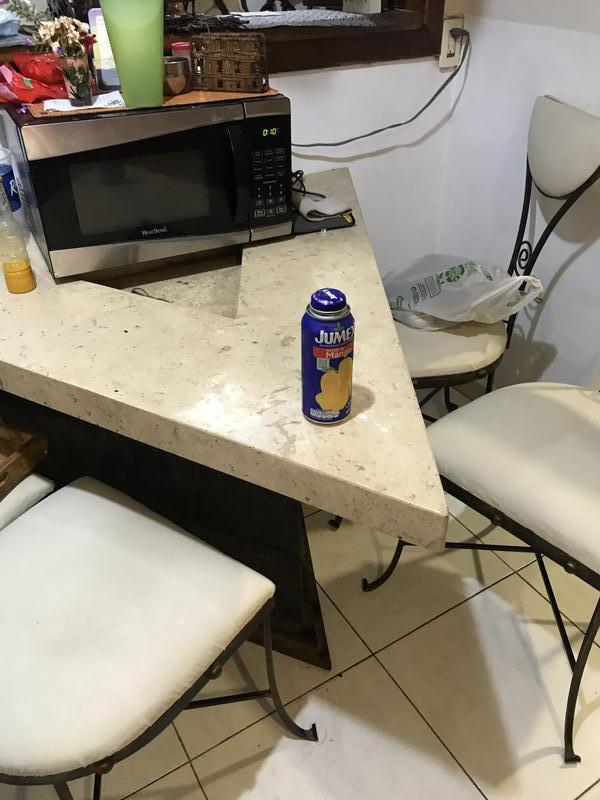jugo_jumex: (302, 287, 357, 430)
